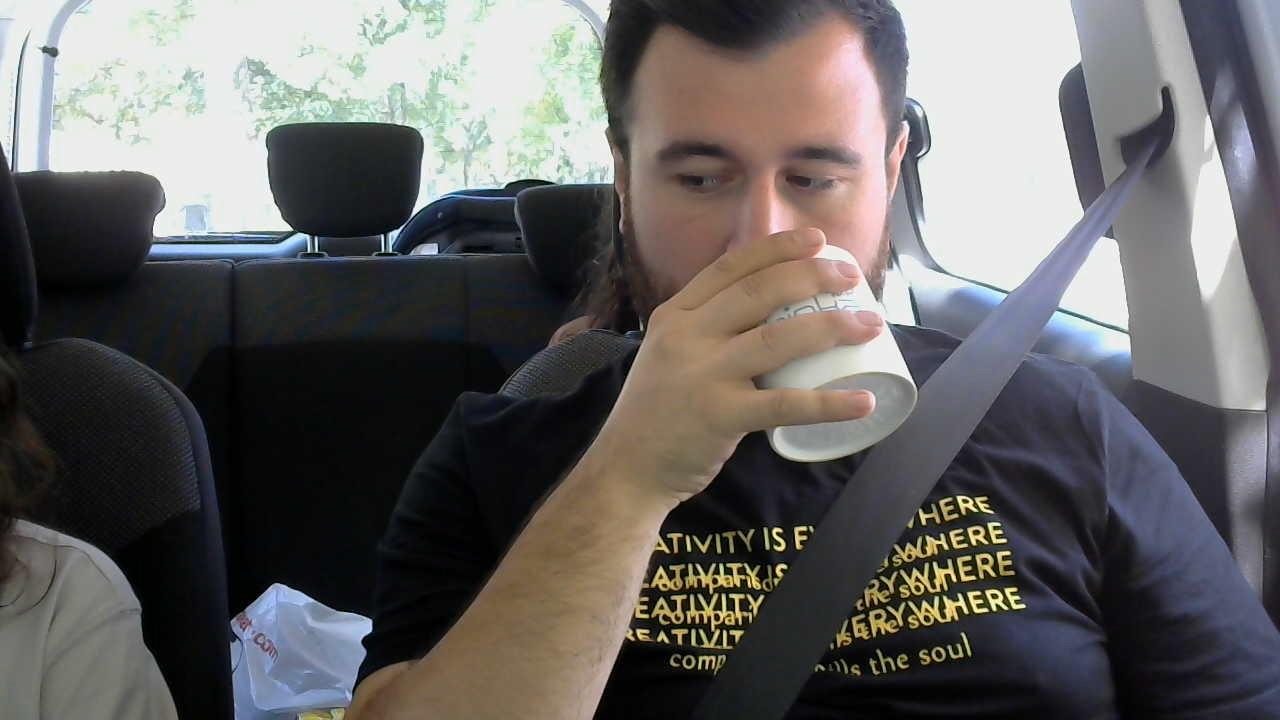Drinking: (609, 21, 918, 463)
